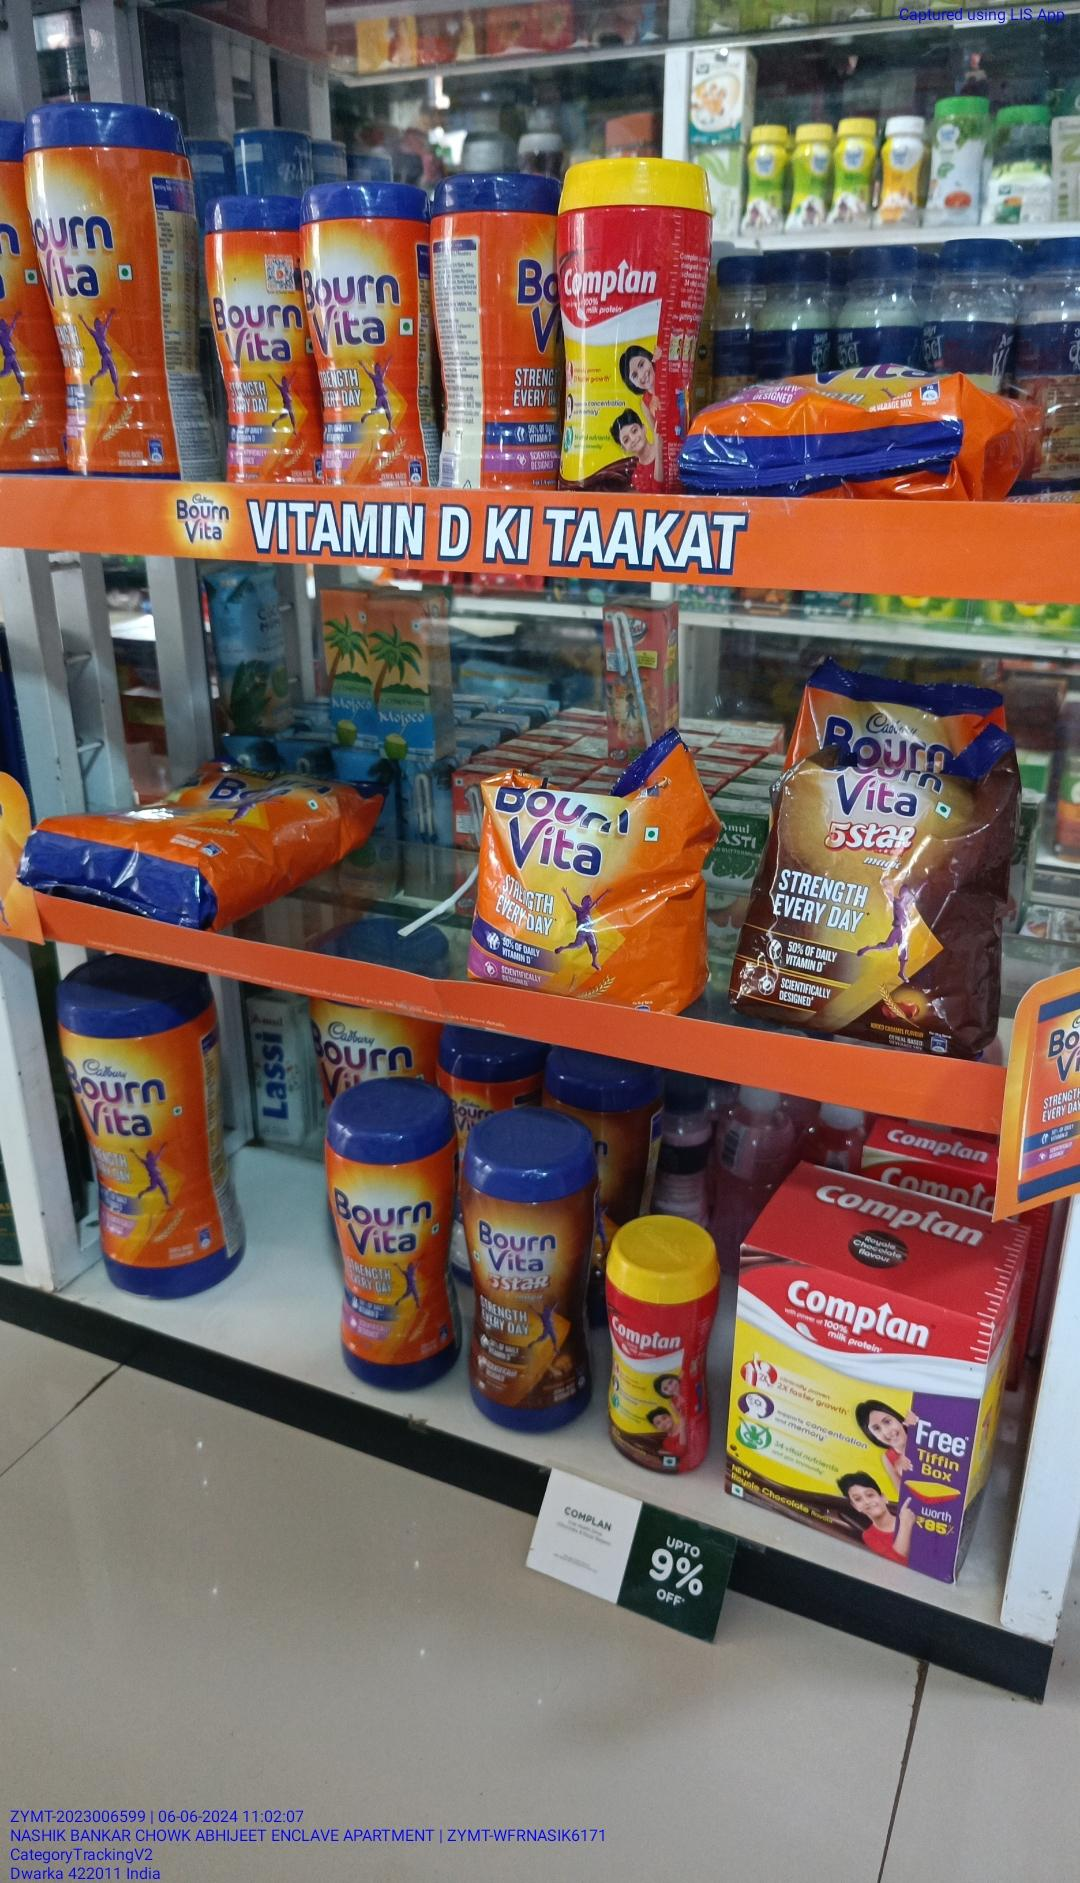BOURN_VITA_200_G_JAR: (300, 180, 414, 481), (207, 181, 299, 490)
BOURN_VITA_FIVE_STAR_MAGIC_500_G_POUCH: (759, 757, 967, 1072)
COMPLAN_CHOCOLATE_200_GMS_JAR: (559, 160, 674, 500), (607, 1261, 702, 1474)
